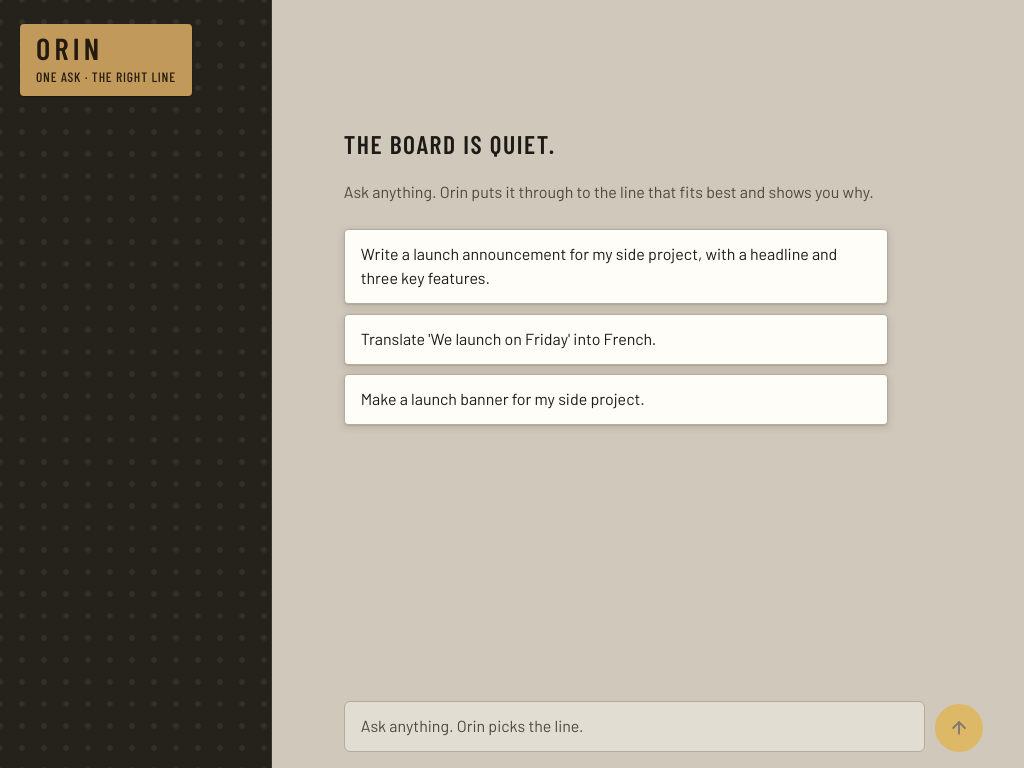
Test: owner session › explains a demo limit on the call that hit it
The width and height of the screenshot is (1024, 768).
expect the text "The board is quiet." is shown: met, box [344, 128, 556, 159]
Type "hello" into the text box named "Ask Orin" at (635, 727), box [344, 701, 926, 752]
Then press Enter
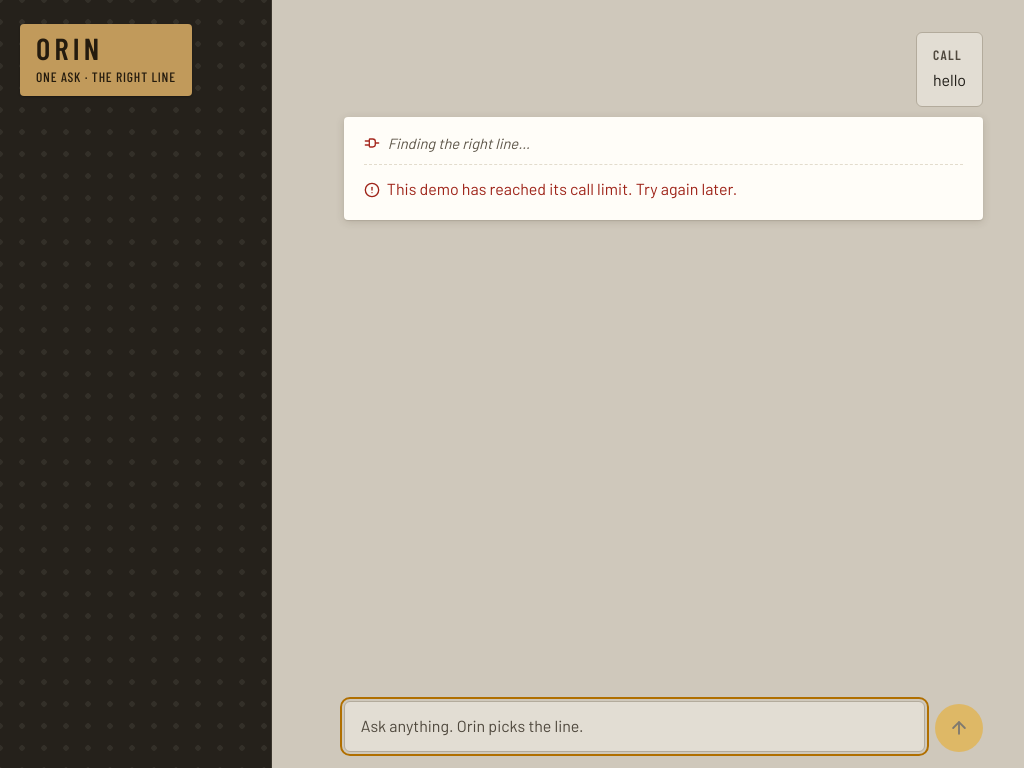
expect the message shows "call limit": met, box [387, 179, 737, 198]
